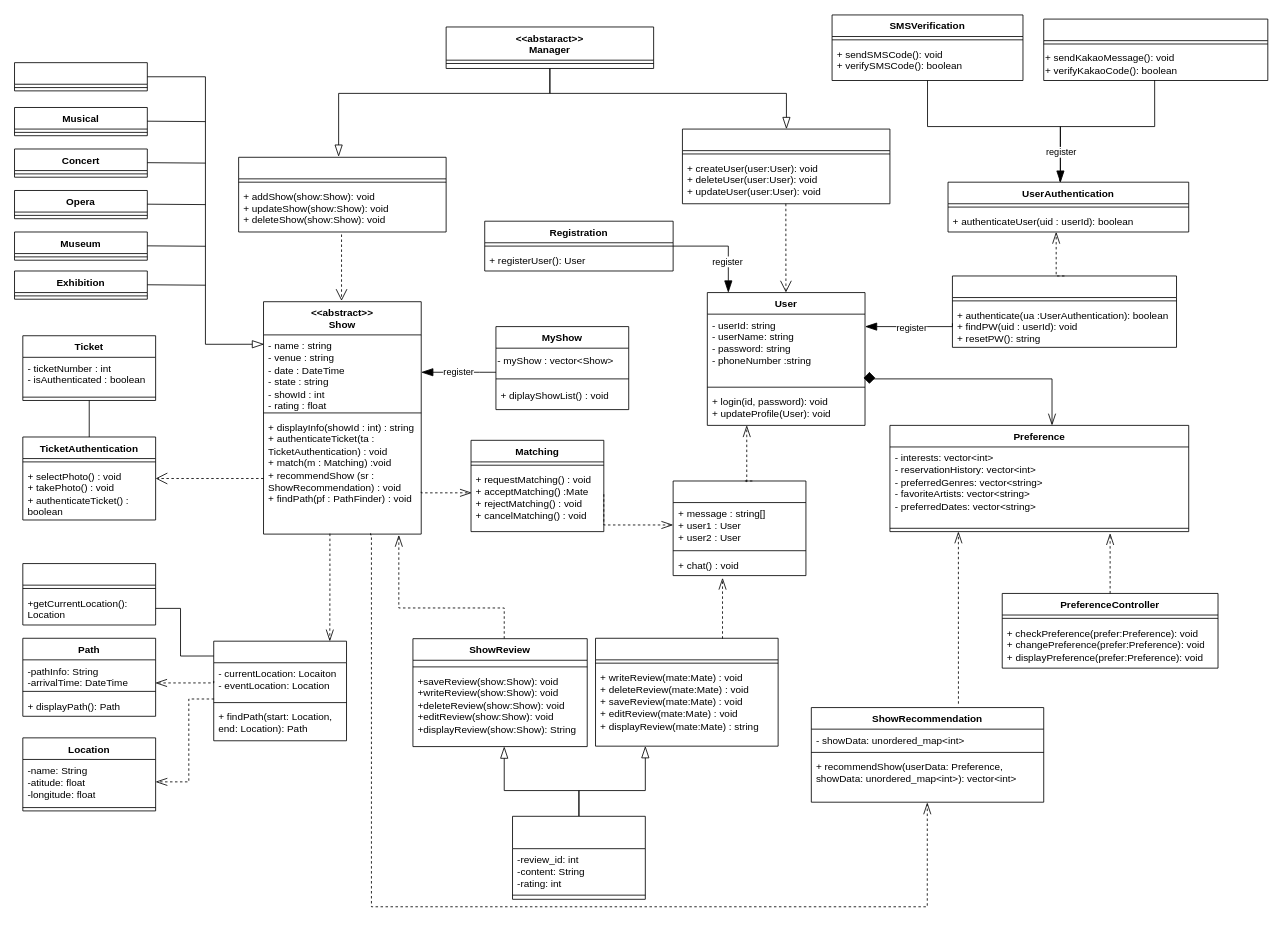
This 1282x933 diagram has some shape labels left out. The shapes that lost their labels are listed below. From the top down, each one's box as (x1, y1, x2, y2) in pixels, then its label:
(1043, 18, 1268, 81): KakaoVerification
(14, 62, 147, 91): Play
(682, 128, 890, 204): UserManager
(238, 156, 446, 232): ShowManager
(952, 275, 1177, 347): LoginController
(672, 480, 806, 576): Mate
(22, 563, 156, 625): GPS
(213, 640, 347, 741): PathFinder
(595, 637, 778, 746): UserReview
(512, 815, 645, 899): <<abstract>> Review
